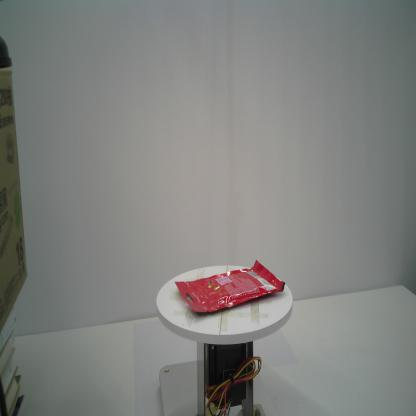Candy: (174, 259, 286, 315)
